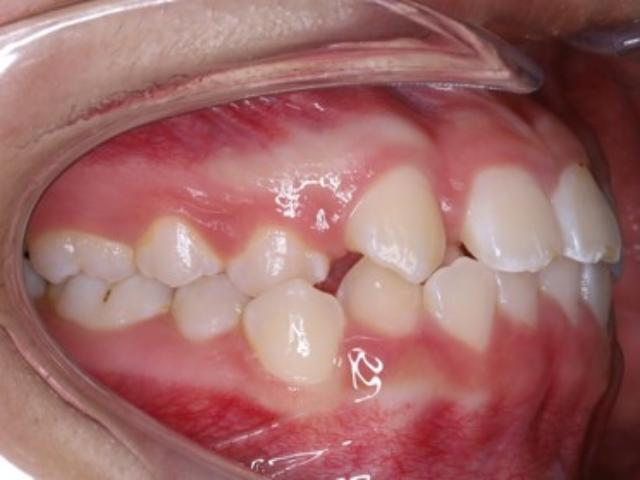canine class II 3/4: (243, 164, 464, 407)
molar class I: (20, 223, 176, 337)
